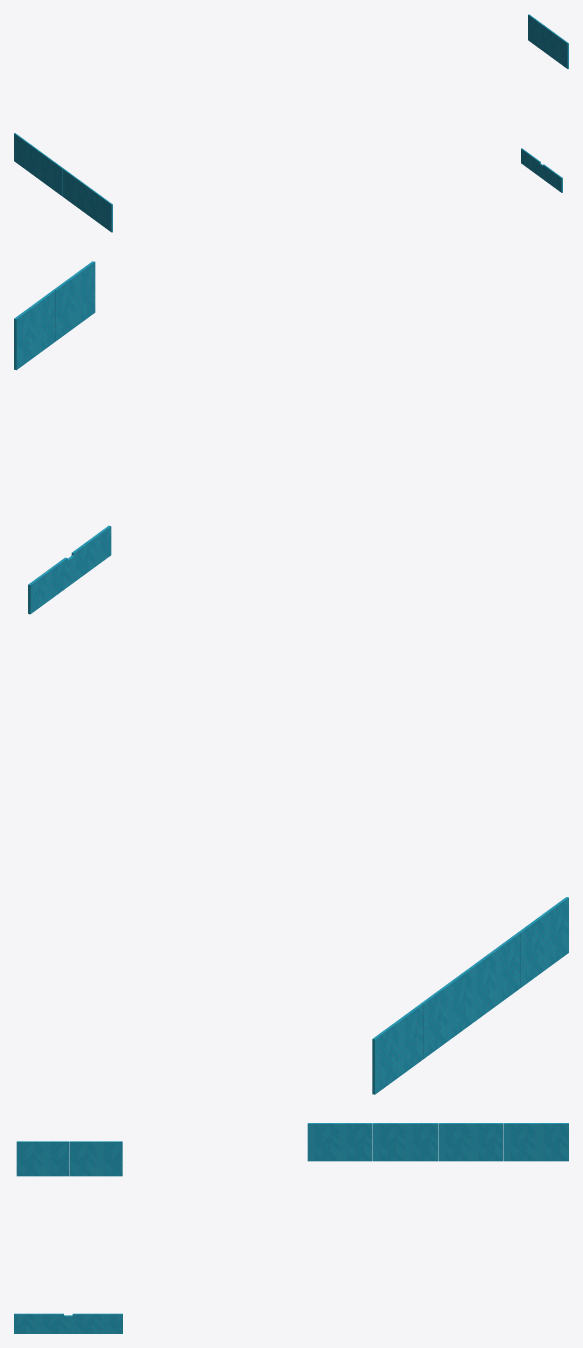
The picture shows the model from 3 angles, top to bottom: view 1: azimuth 30°, elevation 25°; view 2: azimuth 150°, elevation 25°; view 3: azimuth 270°, elevation 25°; orthographic projection. The views are drawn at different scales.
Bounding box in the file's own units: 4.94 × 2.49 × 5.09.
1 material, 1 textured.
